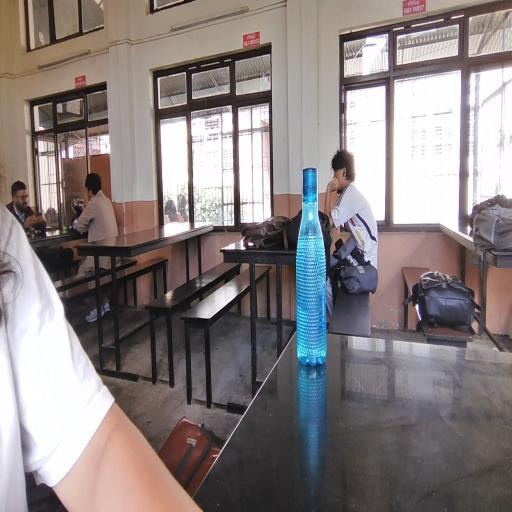Bottle: (295, 165, 340, 391)
